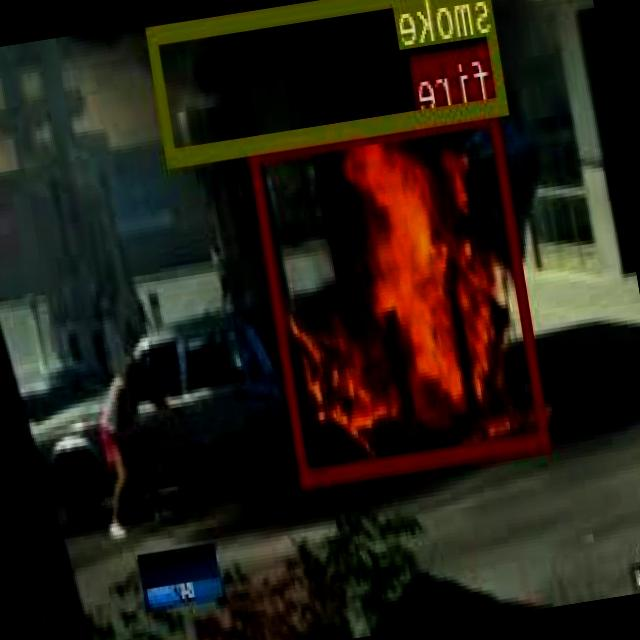fire: (249, 103, 552, 484)
smoke: (147, 0, 510, 162)
